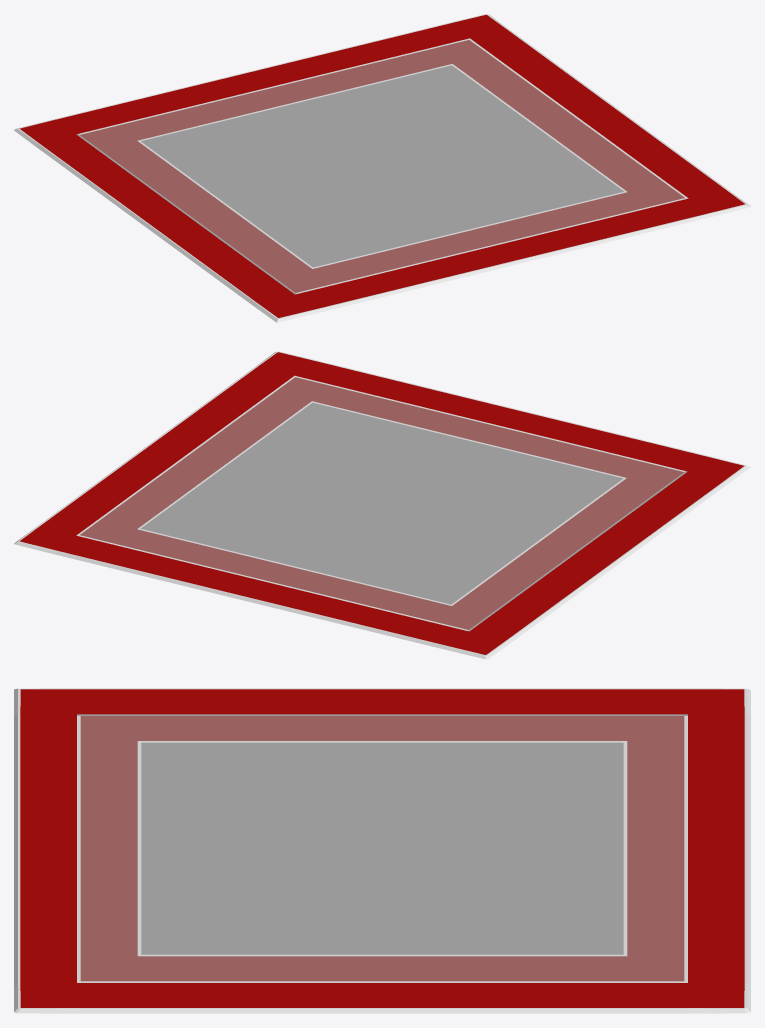
Rendered from Carpet.fbx.
The picture shows the model from 3 angles, top to bottom: view 1: azimuth 30°, elevation 25°; view 2: azimuth 150°, elevation 25°; view 3: azimuth 270°, elevation 25°; orthographic projection. The views are drawn at different scales.
Visible parts, largest first — view 1: pCube1; view 2: pCube1; view 3: pCube1.
Part boxes in pixels (x1,y1,x2,y2): pCube1: [14, 14, 750, 322]; pCube1: [14, 351, 750, 659]; pCube1: [14, 688, 750, 1013].
Size of the model in its own units: 6.07 by 0.0278 by 5.83.
